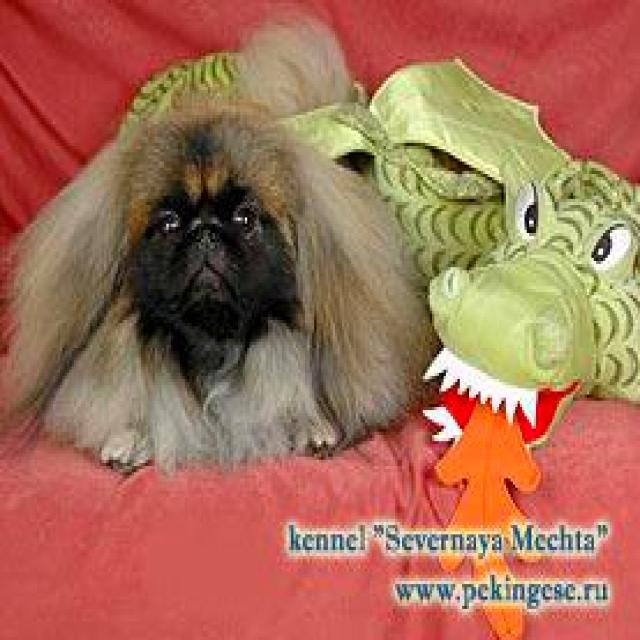pekinese: (4, 12, 420, 476)
